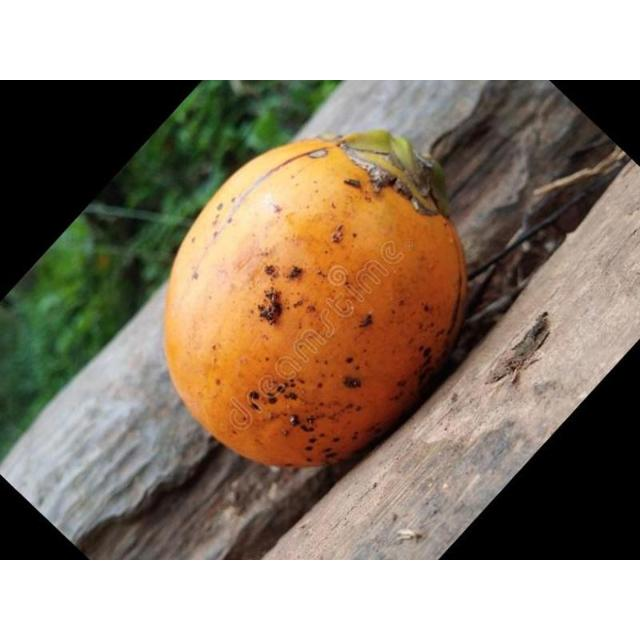good: (164, 133, 466, 467)
